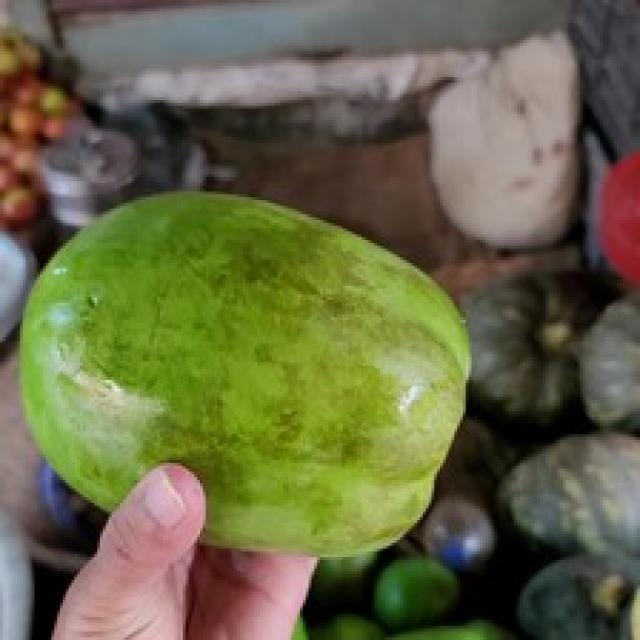Pepaya unrippen: (5, 180, 484, 545)
